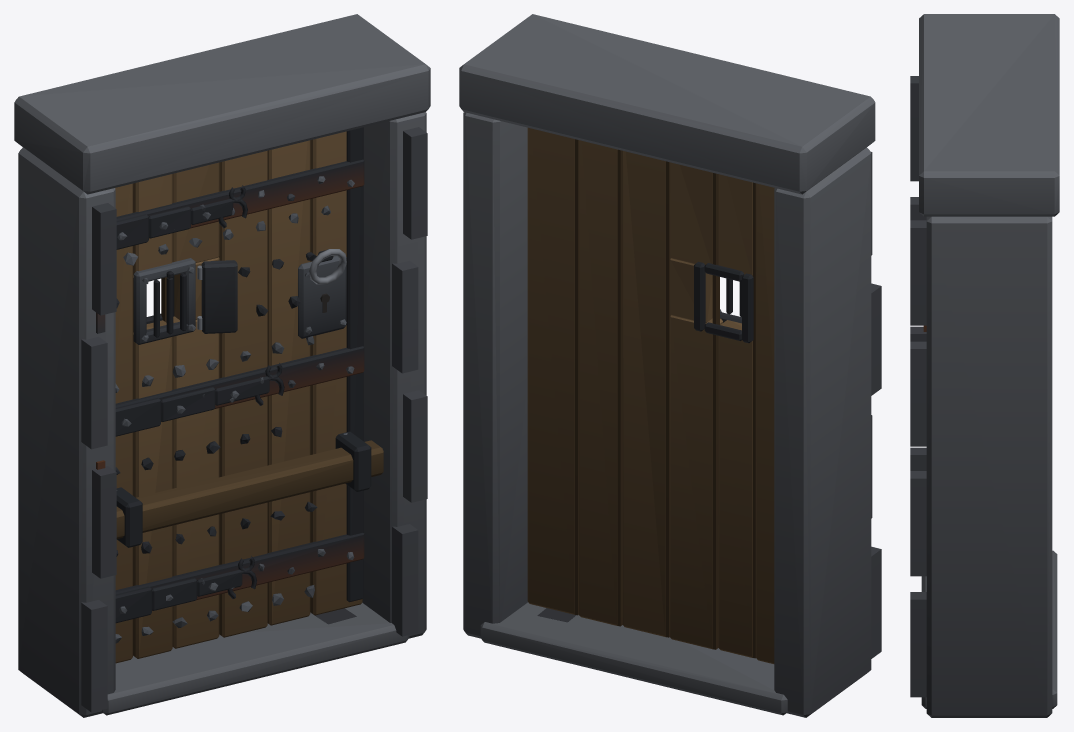
The model's file is dun-heavy-door.glb.
3 renders of one model, left to right at view 1: azimuth 30°, elevation 25°; view 2: azimuth 150°, elevation 25°; view 3: azimuth 270°, elevation 25°, orthographic. The views are drawn at different scales.
Visible parts, largest first — view 1: dun_heavy_door; view 2: dun_heavy_door; view 3: dun_heavy_door.
Part boxes in pixels (x1=…): dun_heavy_door: x1=14, y1=14, x2=430, y2=717; dun_heavy_door: x1=459, y1=14, x2=881, y2=717; dun_heavy_door: x1=910, y1=14, x2=1059, y2=717.
Size of the model in its own units: 1.52 by 2.4 by 0.5951.
